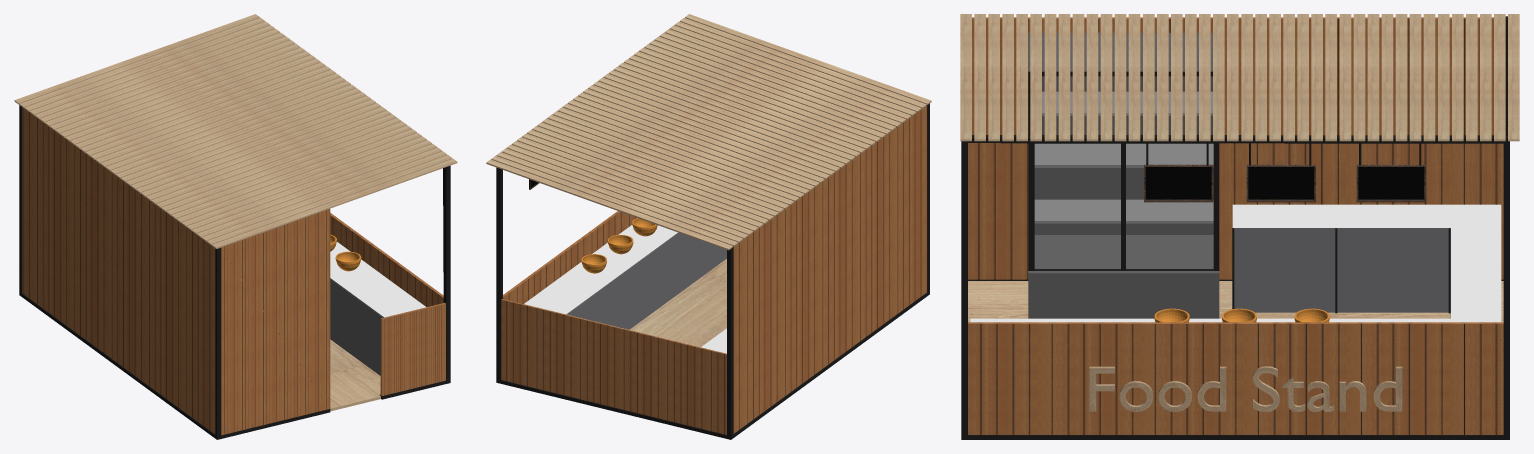
File: food stand.fbx
3 views of the same model, side by side, from view 1: azimuth 30°, elevation 25°; view 2: azimuth 150°, elevation 25°; view 3: azimuth 270°, elevation 25° (orthographic). The views are drawn at different scales.
Parts seen in each view (by area): view 1: Cube.003, Cube.002, Cube.005, Cube.001, Cube; view 2: Cube.003, Cube.002, Cube.005, Cube.001, Cube; view 3: Cube.003, Cube.002, Cube.005, freezer, Cube.001, text, part of freezer, Cube, part of freezer 2, Cube.006, Cube.007, Cube.009 (+1 smaller).
Boxes of the visible parts, x1=… form: Cube.003: x1=22, y1=107, x2=445, y2=435; Cube.002: x1=14, y1=14, x2=457, y2=248; Cube.005: x1=330, y1=242, x2=426, y2=375; Cube.001: x1=19, y1=104, x2=450, y2=439; Cube: x1=330, y1=339, x2=380, y2=411; Cube.003: x1=501, y1=105, x2=927, y2=434; Cube.002: x1=486, y1=14, x2=931, y2=250; Cube.005: x1=524, y1=225, x2=726, y2=353; Cube.001: x1=496, y1=103, x2=929, y2=439; Cube: x1=630, y1=259, x2=726, y2=347; Cube.003: x1=968, y1=17, x2=1503, y2=434; Cube.002: x1=960, y1=14, x2=1519, y2=141; Cube.005: x1=970, y1=204, x2=1501, y2=322; freezer: x1=1028, y1=32, x2=1219, y2=318; Cube.001: x1=961, y1=16, x2=1509, y2=439; text: x1=1089, y1=366, x2=1402, y2=411; part of freezer: x1=1034, y1=199, x2=1213, y2=223; Cube: x1=968, y1=281, x2=1503, y2=322; part of freezer 2: x1=1034, y1=144, x2=1213, y2=167; Cube.006: x1=1246, y1=164, x2=1315, y2=202; Cube.007: x1=1356, y1=164, x2=1425, y2=202; Cube.009: x1=1144, y1=164, x2=1213, y2=202.
Bounding box in the file's own units: 2188 × 1906 × 3168.
Materials: 11 (4 with a texture image).
